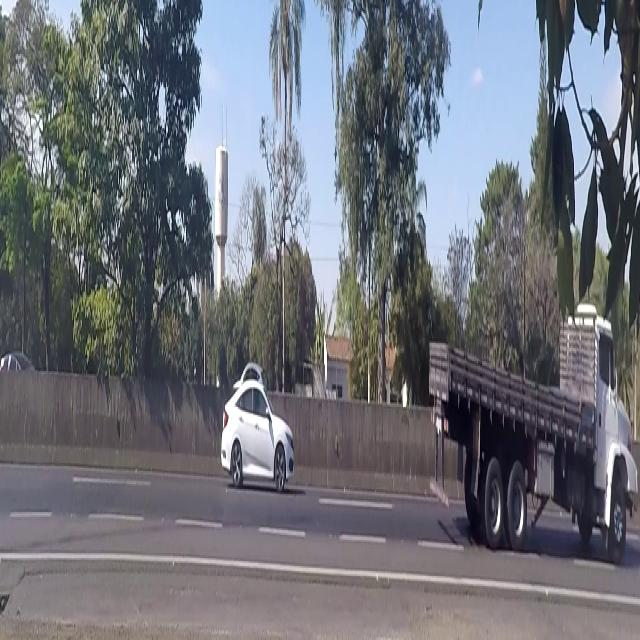-axle: (484, 454, 504, 548), (506, 464, 525, 551), (610, 478, 628, 568)
